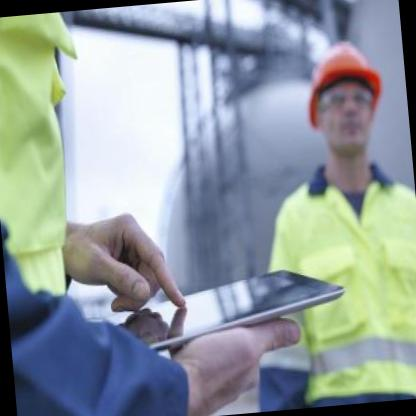helmet: (294, 22, 400, 183)
